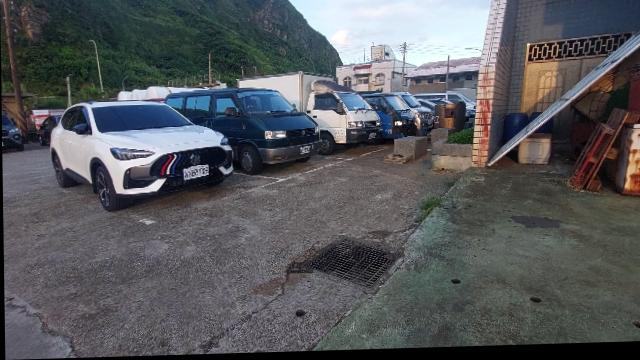pollute: (564, 53, 640, 202), (515, 135, 552, 169), (502, 116, 528, 148)
